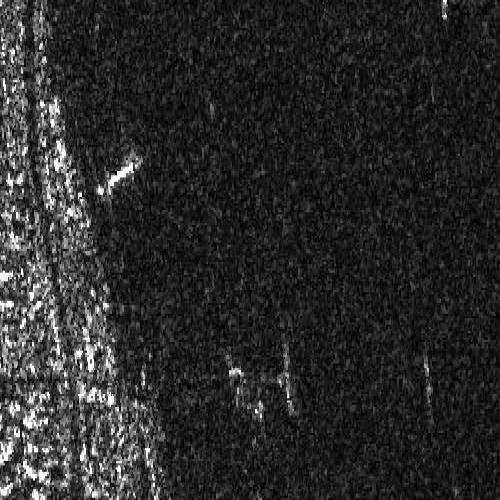ship: (95, 154, 144, 201)
